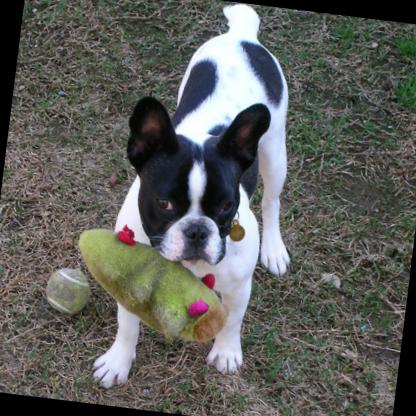French_bulldog: (87, 0, 320, 405)
